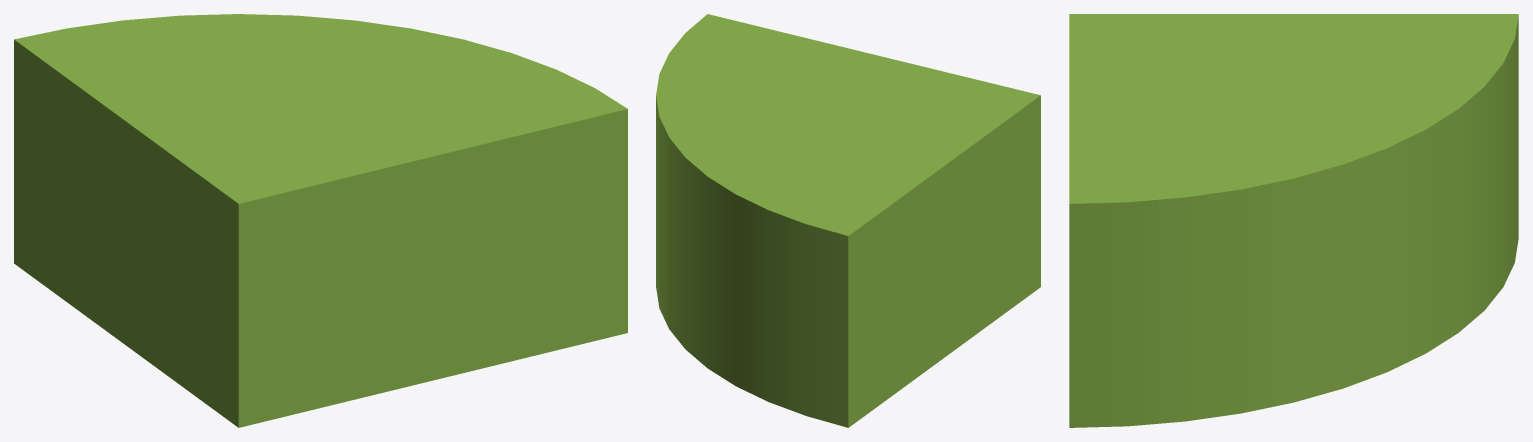
Rendered from tile102.dae.
3 views of the same model, side by side, from view 1: azimuth 30°, elevation 25°; view 2: azimuth 150°, elevation 25°; view 3: azimuth 270°, elevation 25° (orthographic). The views are drawn at different scales.
Parts seen in each view (by area): view 1: tile102; view 2: tile102; view 3: tile102.
Boxes of the visible parts, x1,y1,x2,y2 form: tile102: [14, 14, 627, 427]; tile102: [656, 14, 1040, 427]; tile102: [1069, 14, 1518, 427].
Size of the model in its own units: 1 by 0.55 by 1.
